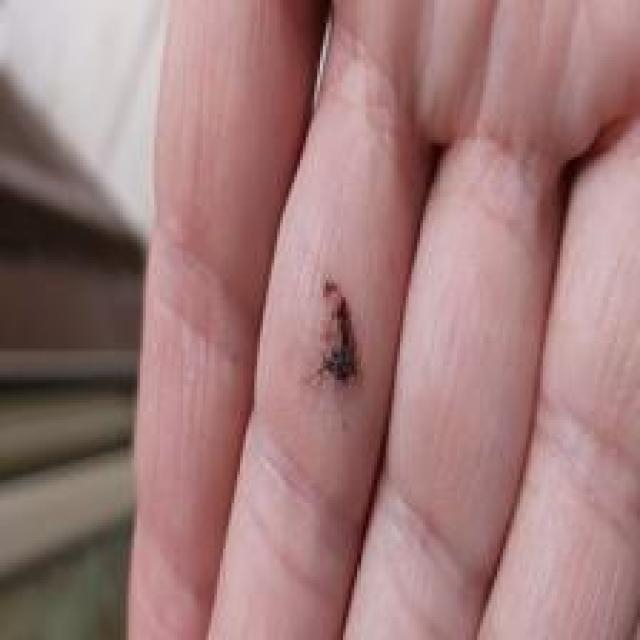Aedes albopictus: (304, 274, 362, 392)
